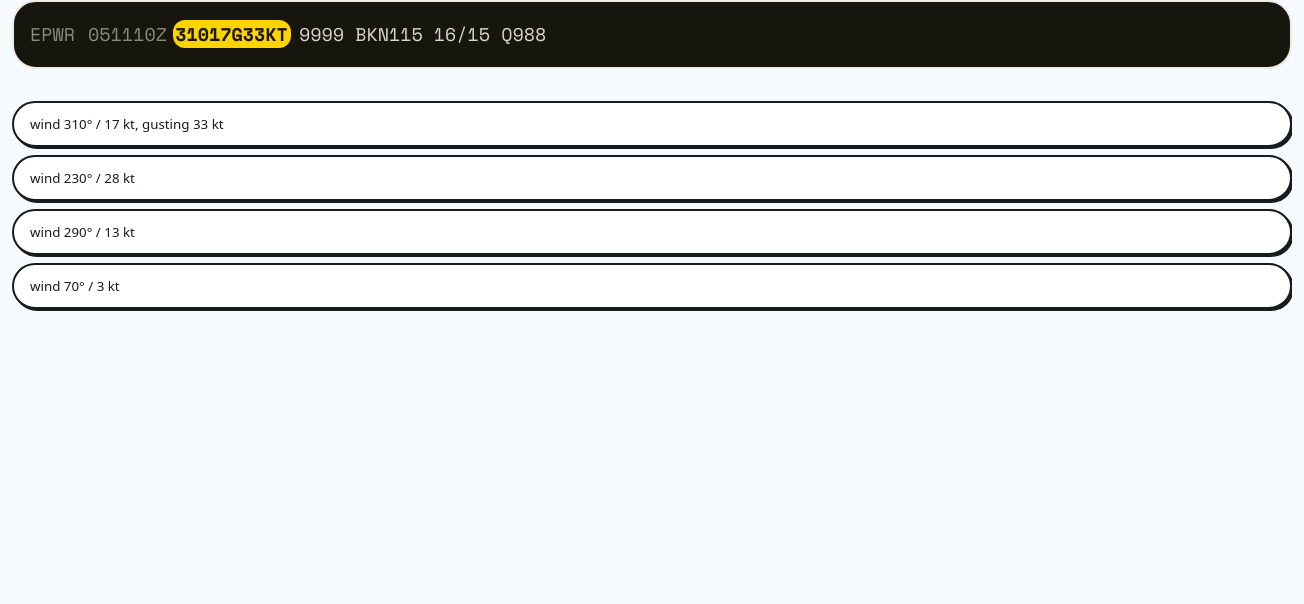
MetarDecoder › shows the correct answer for a wrong pick
This screenshot has width=1304, height=604.
Click the button with class "option" showing "wind 230° / 28 kt" at point(82, 178), box [12,155,1292,201]
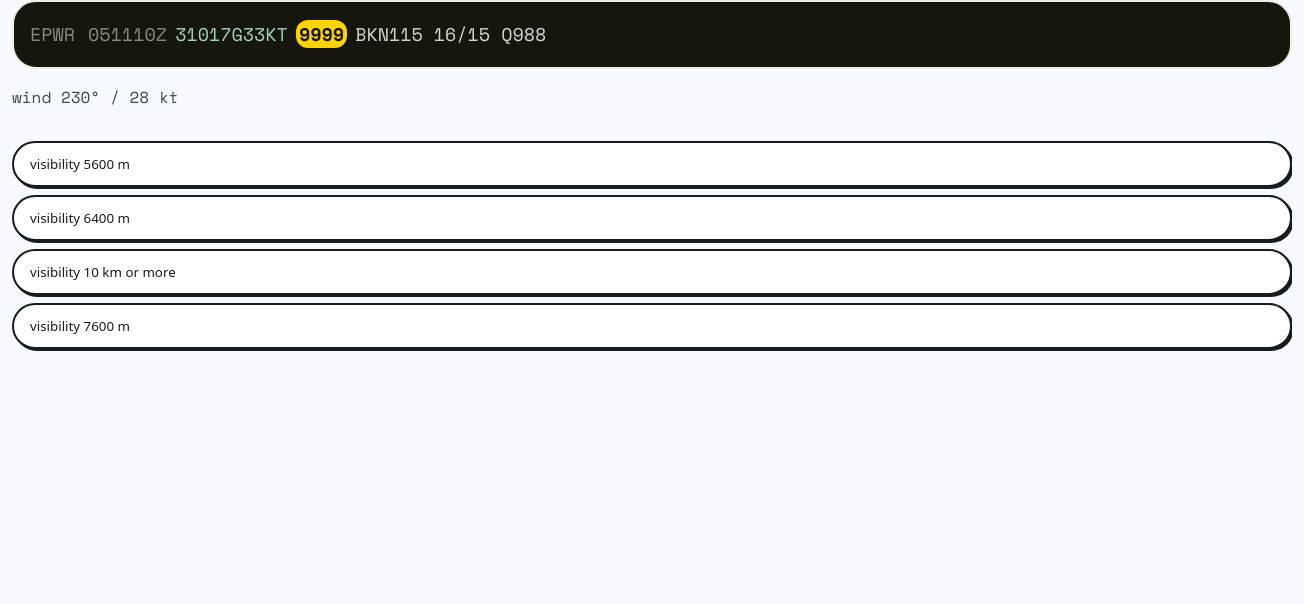
Click the button with class "option" showing "visibility 5600 m" at point(80, 164), box [12,141,1292,187]
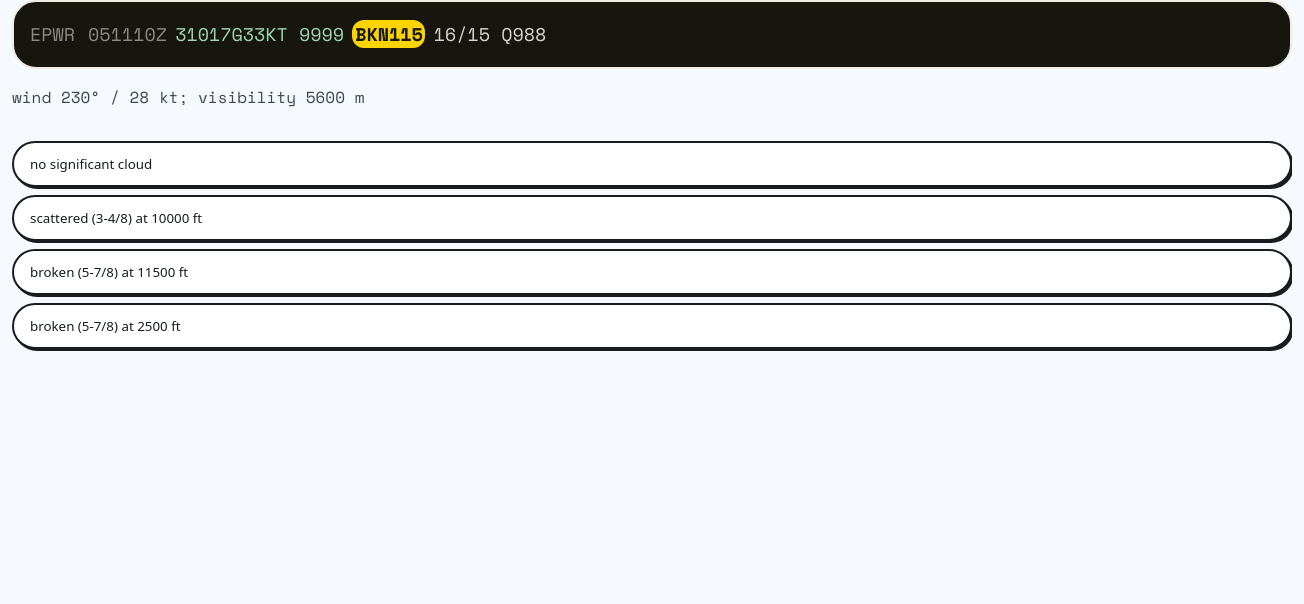
Click the button with class "option" showing "no significant cloud" at point(91, 164), box [12,141,1292,187]
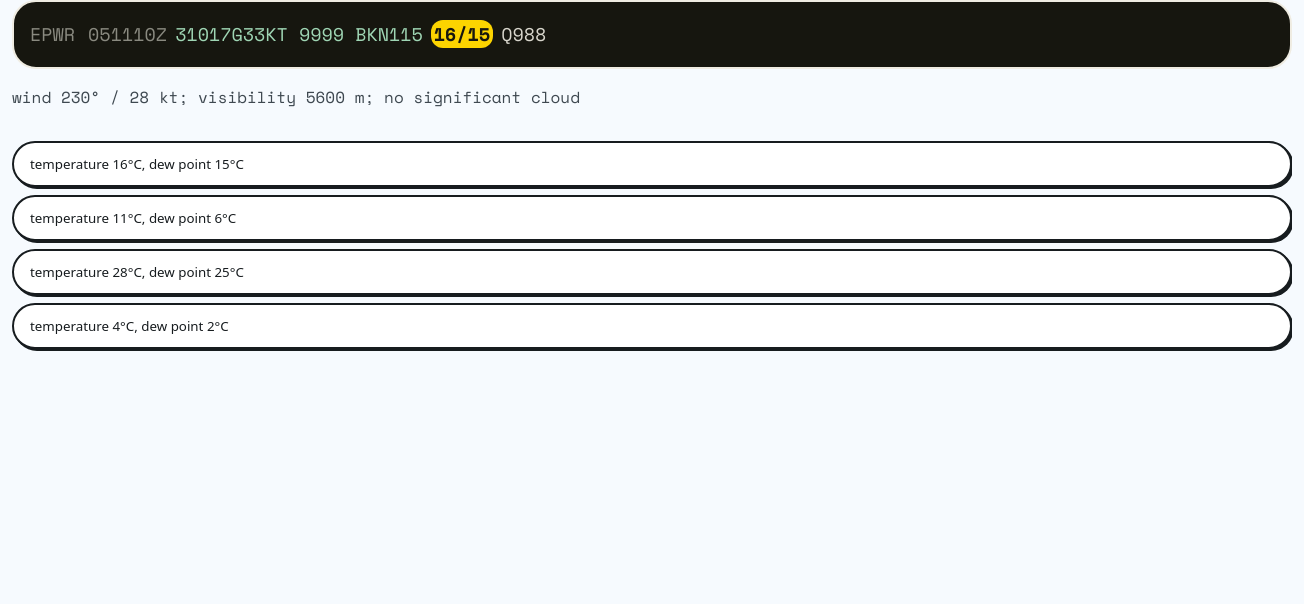
Click the button with class "option" that starts with "temperature 11°C, dew point 6°C" at point(133, 218), box [12,195,1292,241]
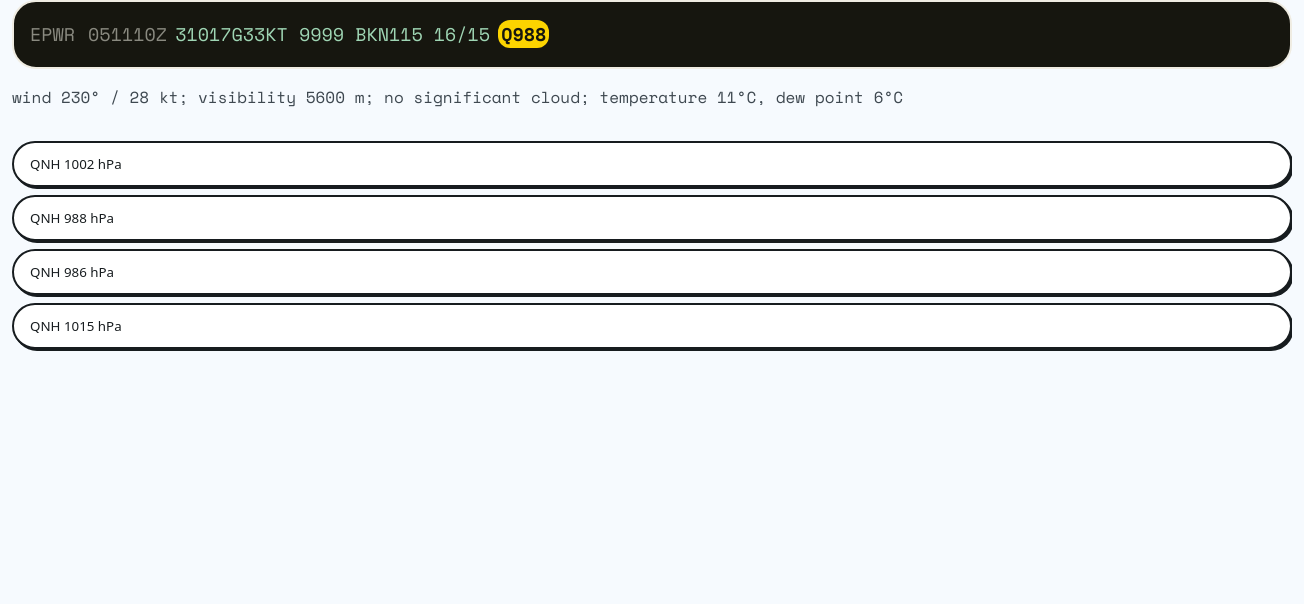
Click the button with class "option" showing "QNH 1002 hPa" at point(76, 164), box [12,141,1292,187]
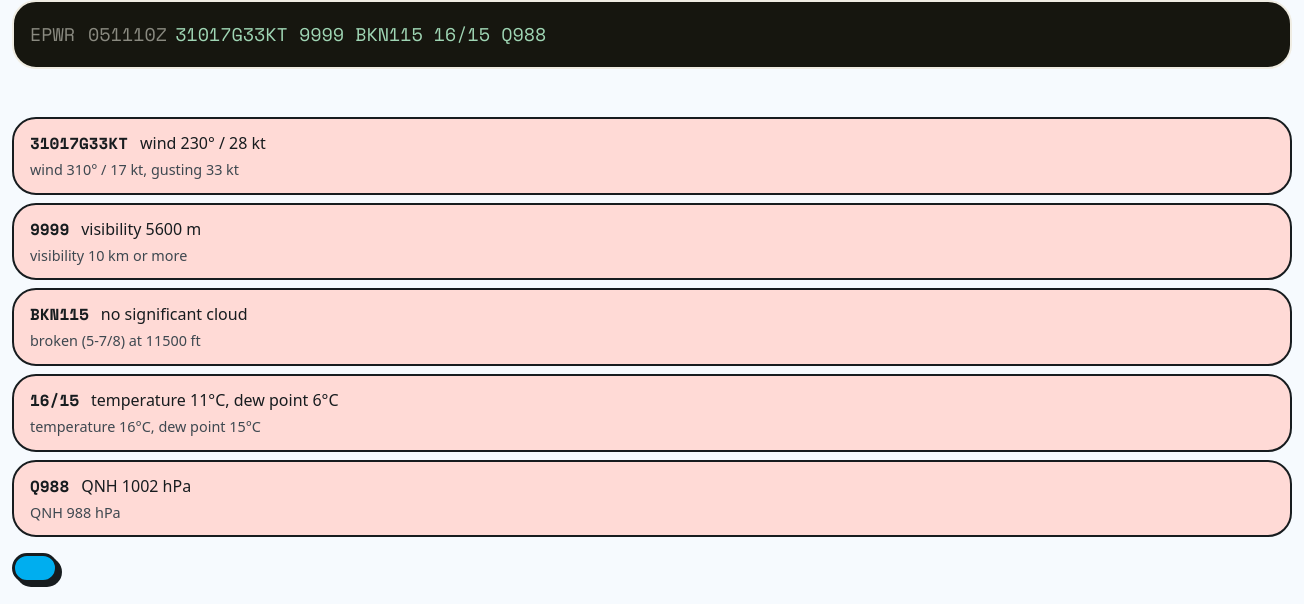
Check: the text "wind 310° / 17 kt, gusting 33 kt" is shown, box [30,160,239,179]
